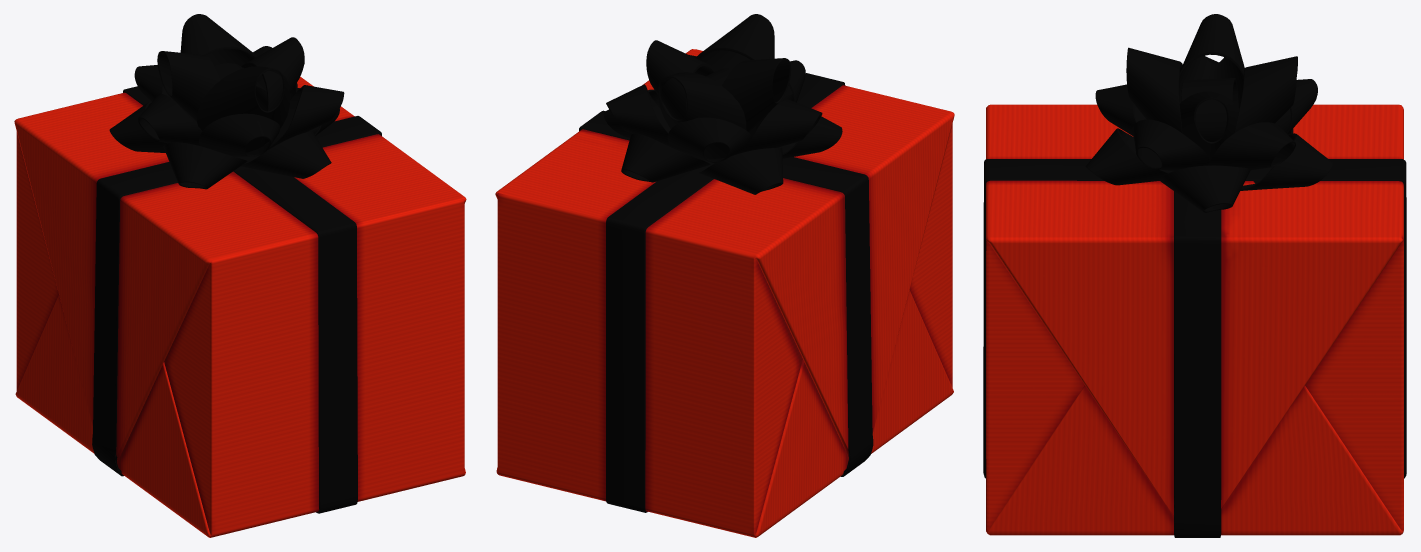
File: gift.glb
The picture shows the model from 3 angles, left to right: view 1: azimuth 30°, elevation 25°; view 2: azimuth 150°, elevation 25°; view 3: azimuth 270°, elevation 25°; orthographic projection. The views are drawn at different scales.
Visible parts, largest first — view 1: square_red_present.1; view 2: square_red_present.1; view 3: square_red_present.1.
Part boxes in pixels (x1=…): square_red_present.1: x1=14, y1=14, x2=466, y2=537; square_red_present.1: x1=495, y1=14, x2=954, y2=537; square_red_present.1: x1=983, y1=14, x2=1406, y2=537.
Bounding box in the file's own units: 0.0237 × 0.0333 × 0.0301.
1 material, 1 textured.
